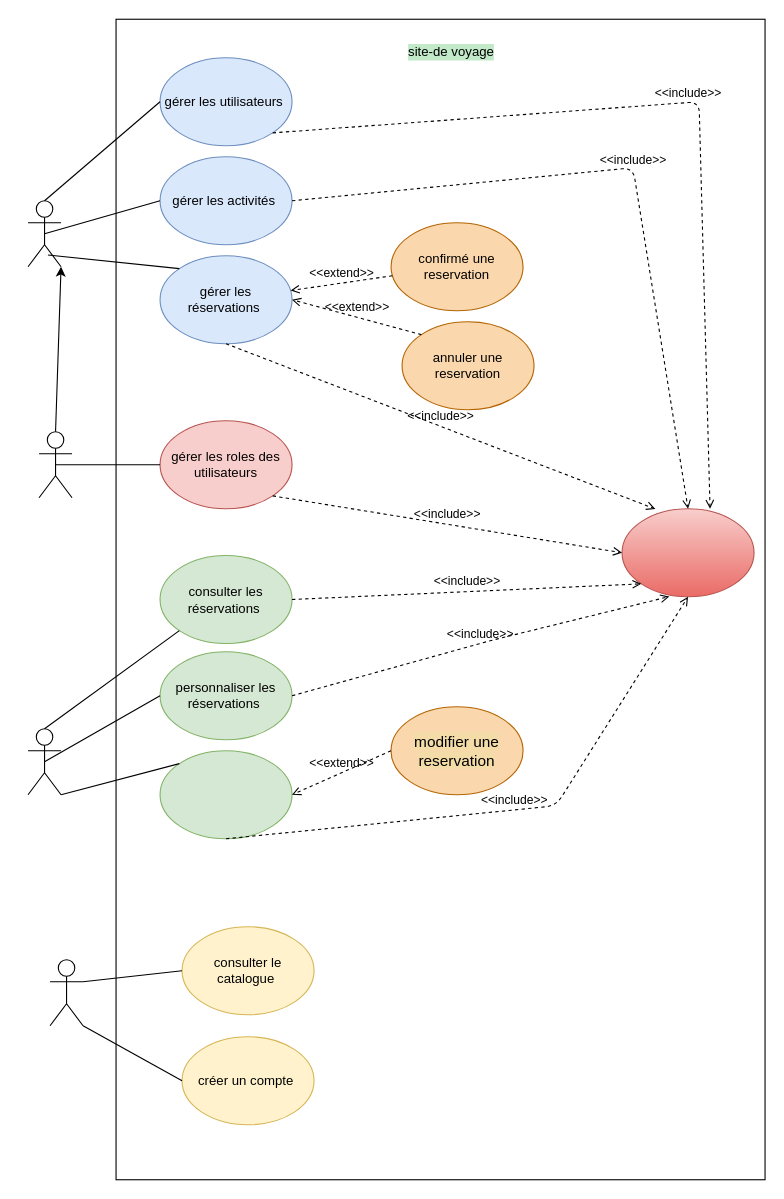
Image size: 784x1199. Some labels were removed from this diagram. The shapes that lost their labels are listed below. From the top down, each one's box as (x1, y1, x2, y2) in pixels, then its label:
(27, 200, 61, 267): admin
(38, 431, 72, 498): super admin
(621, 508, 754, 597): s'ithentifier
(27, 728, 61, 795): client
(159, 750, 292, 839): Réaliser une réservation en ligne
(49, 959, 83, 1026): visiteur
